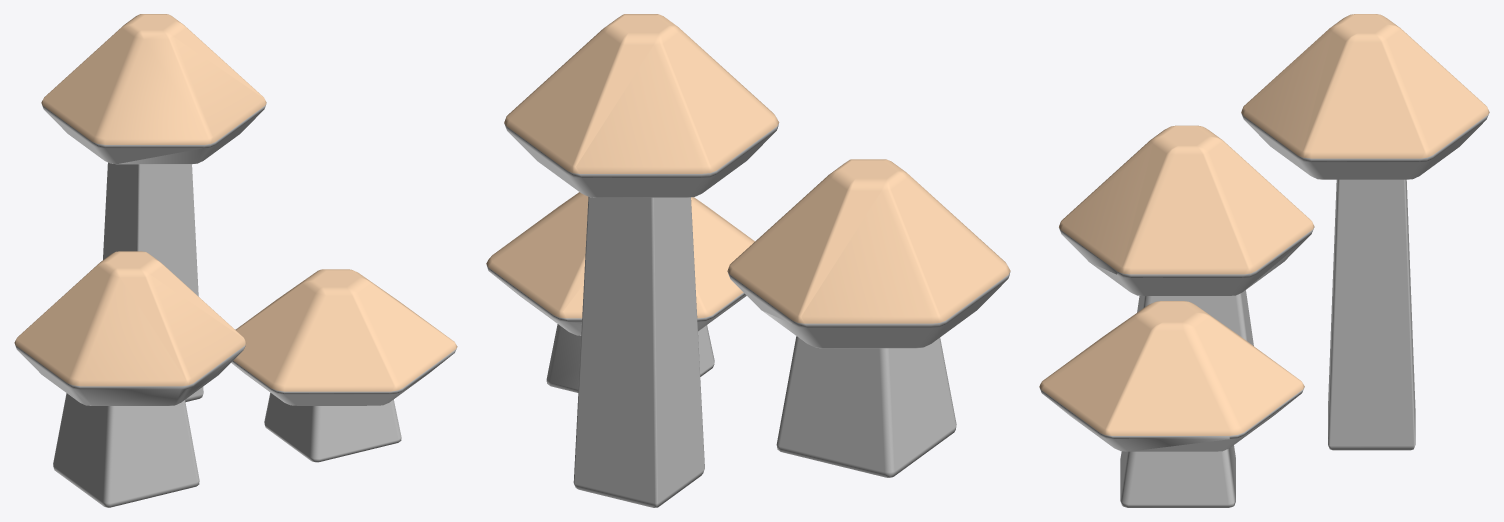
File: mushroom_tanGroup.glb
3 views of the same model, side by side, from view 1: azimuth 30°, elevation 25°; view 2: azimuth 150°, elevation 25°; view 3: azimuth 270°, elevation 25° (orthographic). The views are drawn at different scales.
Parts seen in each view (by area): view 1: mushroom_tanGroup; view 2: mushroom_tanGroup; view 3: mushroom_tanGroup.
Boxes of the visible parts, x1=… form: mushroom_tanGroup: x1=14, y1=14, x2=457, y2=507; mushroom_tanGroup: x1=486, y1=14, x2=1010, y2=507; mushroom_tanGroup: x1=1039, y1=14, x2=1489, y2=507.
Size of the model in its own units: 0.2668 by 0.2505 by 0.2485.
